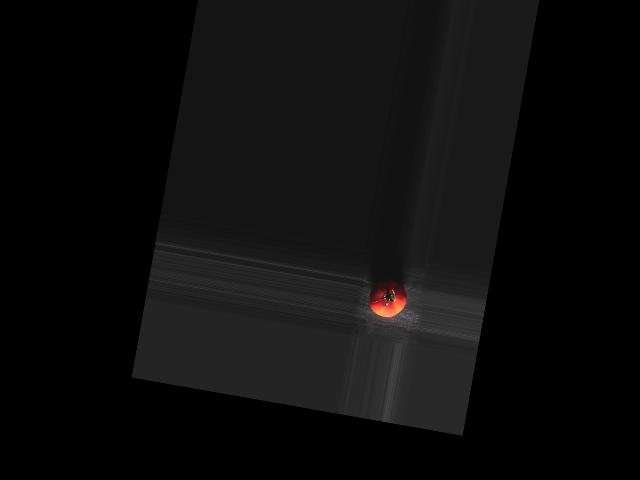tomato: (366, 277, 409, 320)
